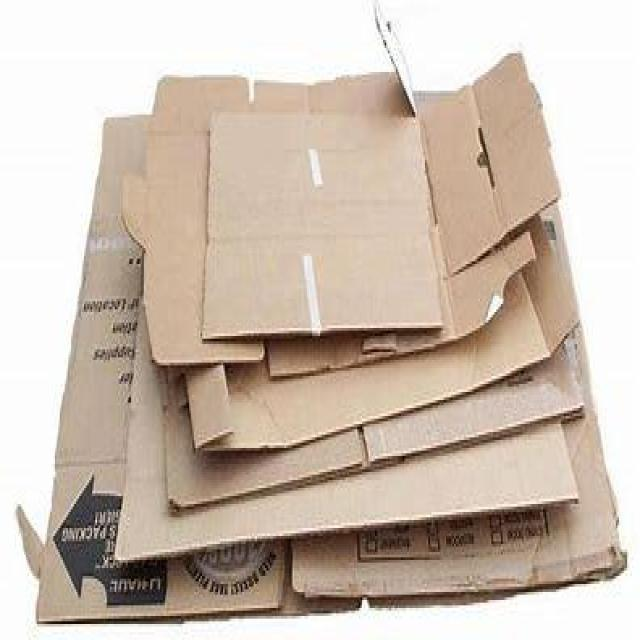cardboard: (34, 51, 628, 624)
